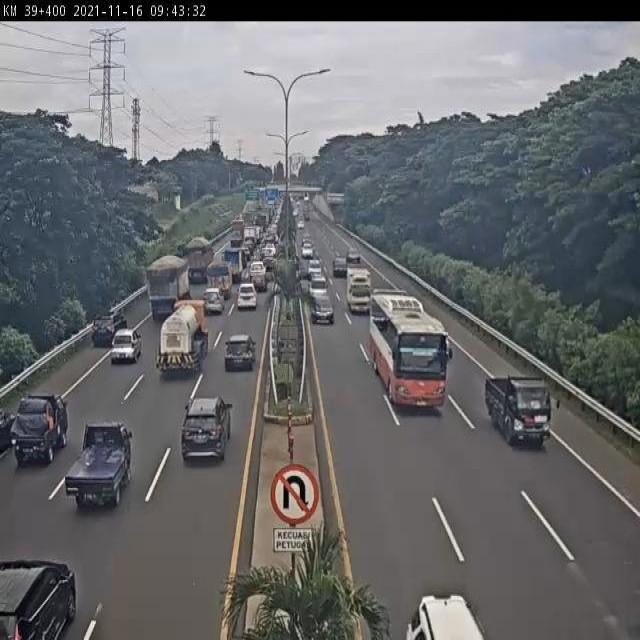big bus: (369, 287, 453, 417)
car: (485, 370, 561, 450), (65, 425, 132, 508), (10, 393, 71, 468), (183, 399, 231, 465), (110, 328, 144, 364), (92, 311, 125, 348), (226, 335, 256, 369), (310, 292, 335, 327), (237, 282, 259, 310), (205, 287, 226, 313)
small truck: (348, 266, 372, 314)
truck-m-: (157, 297, 210, 375), (147, 253, 194, 323)
